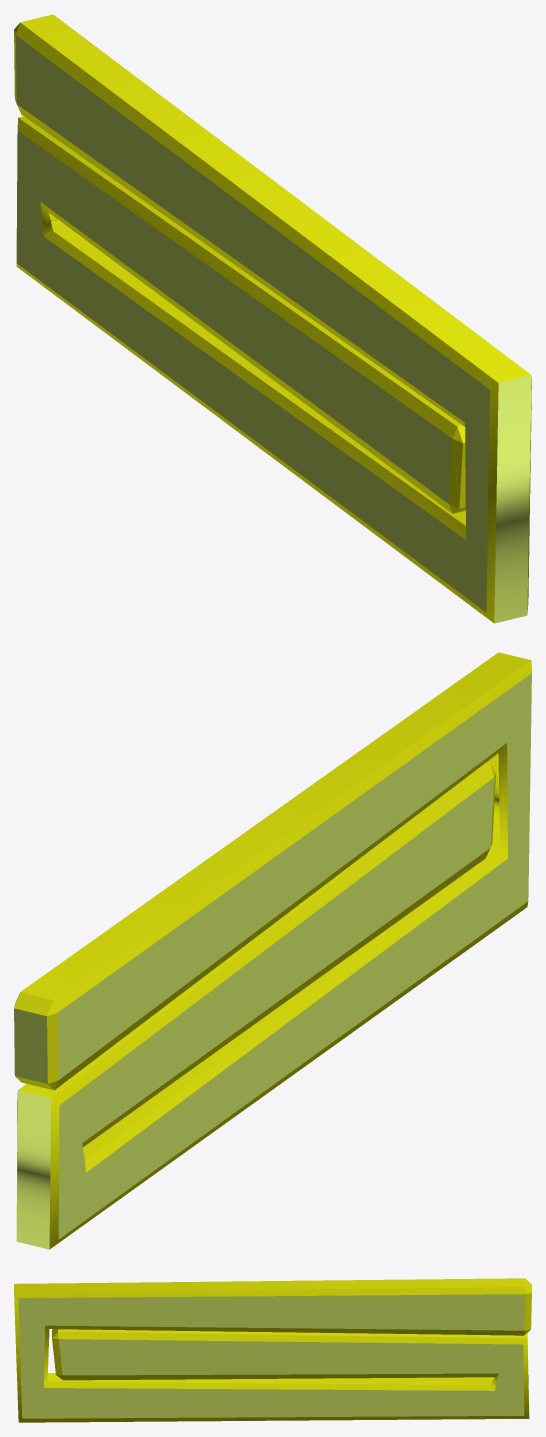
File: Noodle_cooked.fbx
3 renders of one model, top to bottom at view 1: azimuth 30°, elevation 25°; view 2: azimuth 150°, elevation 25°; view 3: azimuth 270°, elevation 25°, orthographic. The views are drawn at different scales.
Visible parts, largest first — view 1: pCube10; view 2: pCube10; view 3: pCube10.
Boxes of the visible parts, box(x1,y1,x2,y2) form: pCube10: box(14, 14, 531, 623); pCube10: box(14, 652, 531, 1249); pCube10: box(14, 1278, 531, 1422).
Bounding box in the file's own units: 0.0172 × 0.0996 × 0.3442.
